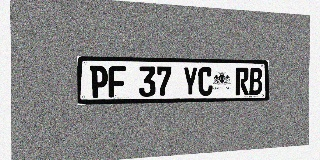3: (139, 66, 155, 97)
7: (156, 66, 172, 97)
B: (249, 68, 262, 95)
C: (198, 67, 213, 96)
F: (108, 66, 126, 97)
P: (90, 66, 108, 98)
R: (235, 67, 249, 95)
Y: (183, 67, 198, 96)
